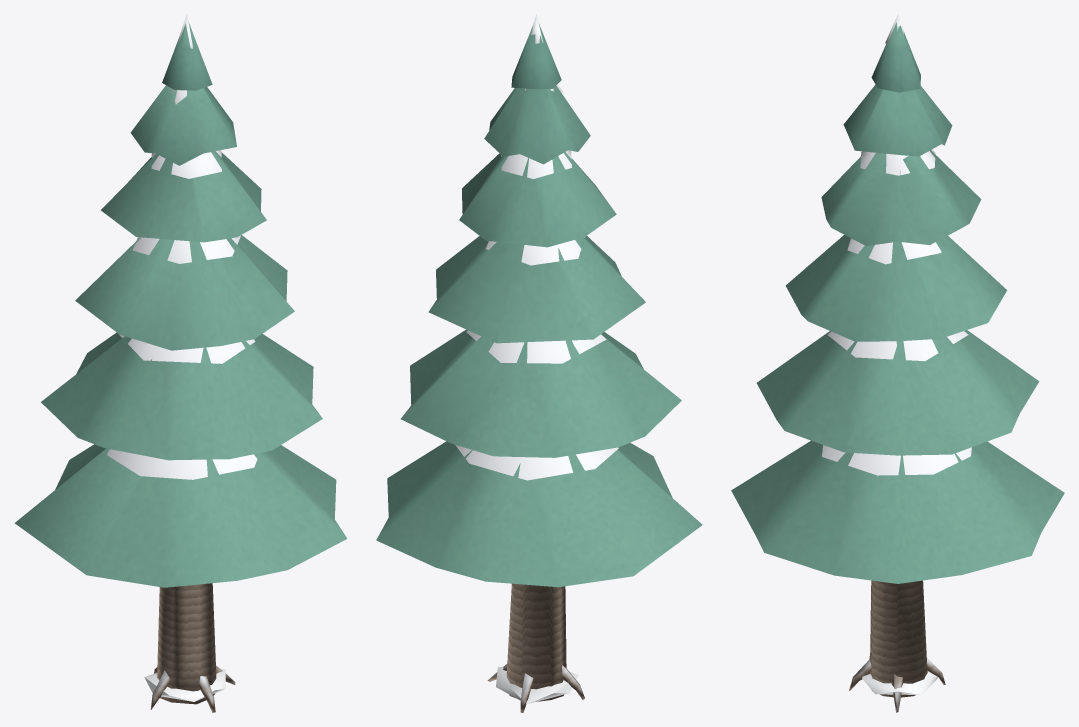
The model's file is pine_snow_tree_lod1.gltf.
3 views of the same model, side by side, from view 1: azimuth 30°, elevation 25°; view 2: azimuth 150°, elevation 25°; view 3: azimuth 270°, elevation 25° (orthographic).
Parts seen in each view (by area): view 1: pine_snow_canopy_LOD1, pine_snow_trunk_LOD1; view 2: pine_snow_canopy_LOD1, pine_snow_trunk_LOD1; view 3: pine_snow_canopy_LOD1, pine_snow_trunk_LOD1.
Part boxes in pixels (x1,y1,x2,y2): pine_snow_canopy_LOD1: [14, 14, 347, 587]; pine_snow_trunk_LOD1: [144, 583, 235, 712]; pine_snow_canopy_LOD1: [376, 14, 702, 587]; pine_snow_trunk_LOD1: [487, 583, 584, 712]; pine_snow_canopy_LOD1: [731, 14, 1064, 583]; pine_snow_trunk_LOD1: [849, 580, 945, 712].
Size of the model in its own units: 4.37 by 10.02 by 4.48.
1 material, 1 textured.
